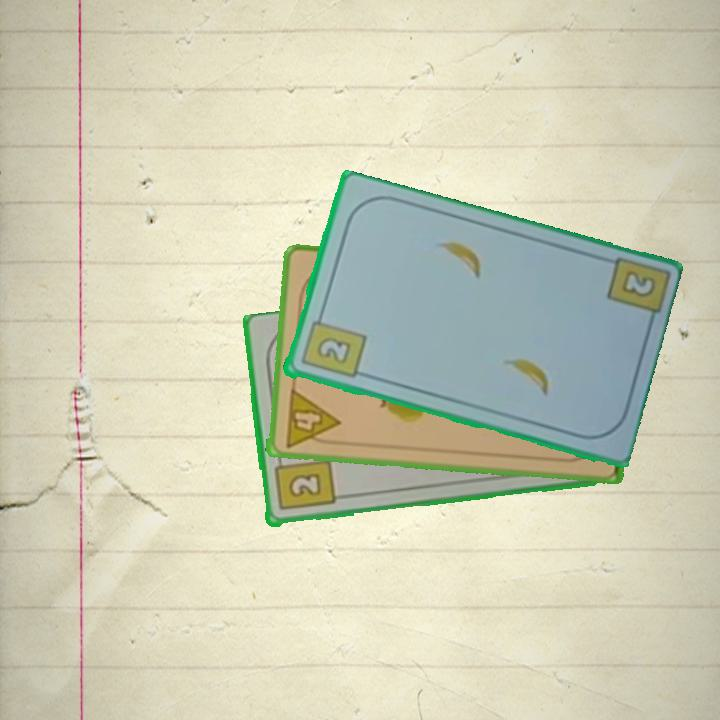2b: (297, 309, 368, 382), (271, 453, 337, 514), (617, 267, 658, 301)
4p: (281, 385, 341, 450)
